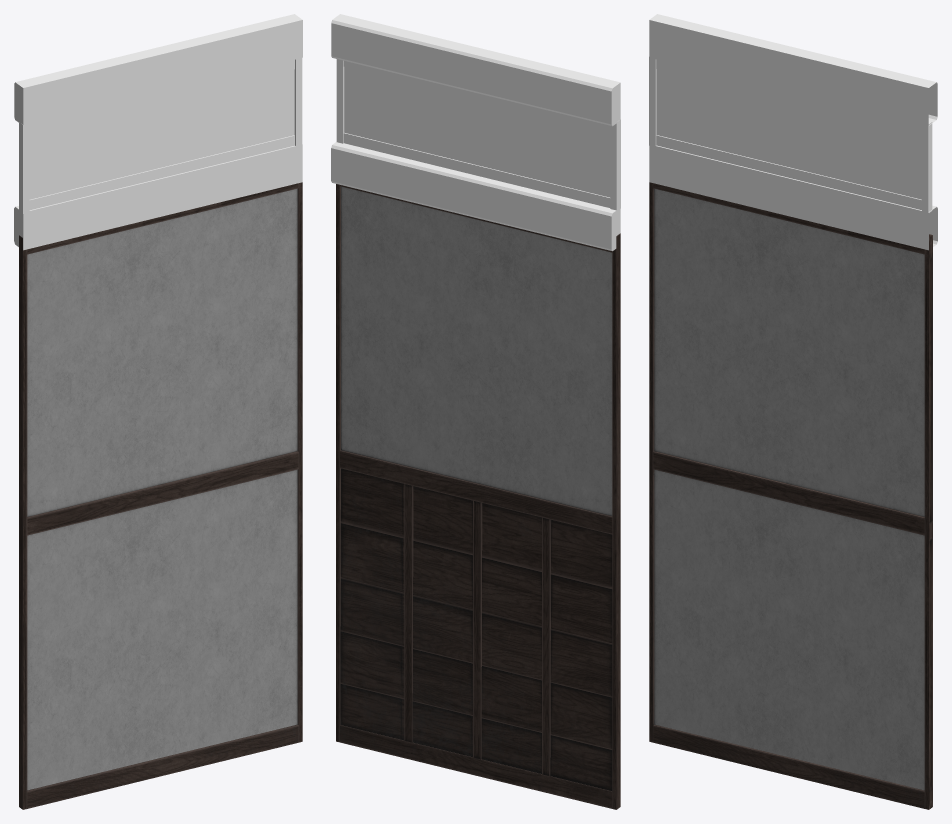
File: Wall_Half01.FBX
The picture shows the model from 3 angles, left to right: view 1: azimuth 30°, elevation 25°; view 2: azimuth 150°, elevation 25°; view 3: azimuth 330°, elevation 25°; orthographic projection.
Parts seen in each view (by area): view 1: wall_C001, wall_A003, Wall_Half; view 2: wall_C001, Wall_Half, wall_A003; view 3: wall_C001, wall_A003, Wall_Half.
Part boxes in pixels (left/top/right/bottom): wall_C001: left=19, top=182, right=302, bottom=809; wall_A003: left=19, top=58, right=302, bottom=213; Wall_Half: left=14, top=14, right=302, bottom=250; wall_C001: left=336, top=184, right=620, bottom=809; Wall_Half: left=331, top=14, right=620, bottom=251; wall_A003: left=336, top=59, right=620, bottom=211; wall_C001: left=649, top=182, right=932, bottom=809; wall_A003: left=649, top=57, right=932, bottom=213; Wall_Half: left=649, top=14, right=937, bottom=250.
Bounding box in the file's own units: 1.34 × 3.3 × 0.0753.
